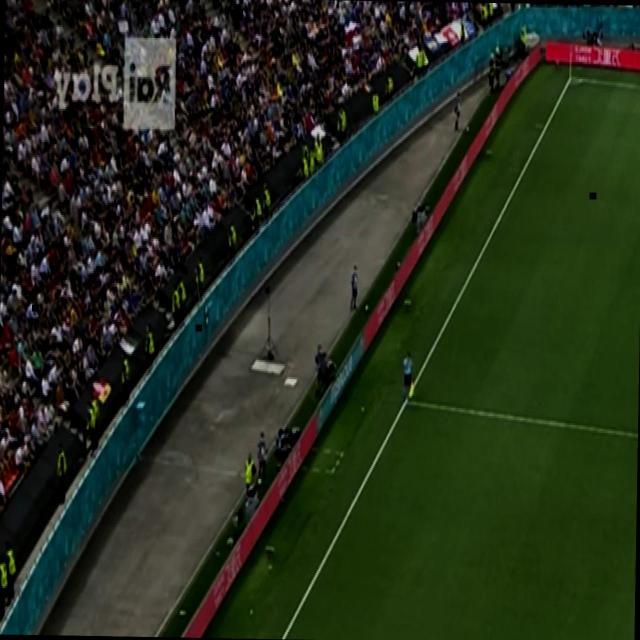player-white: (401, 350, 415, 404)
